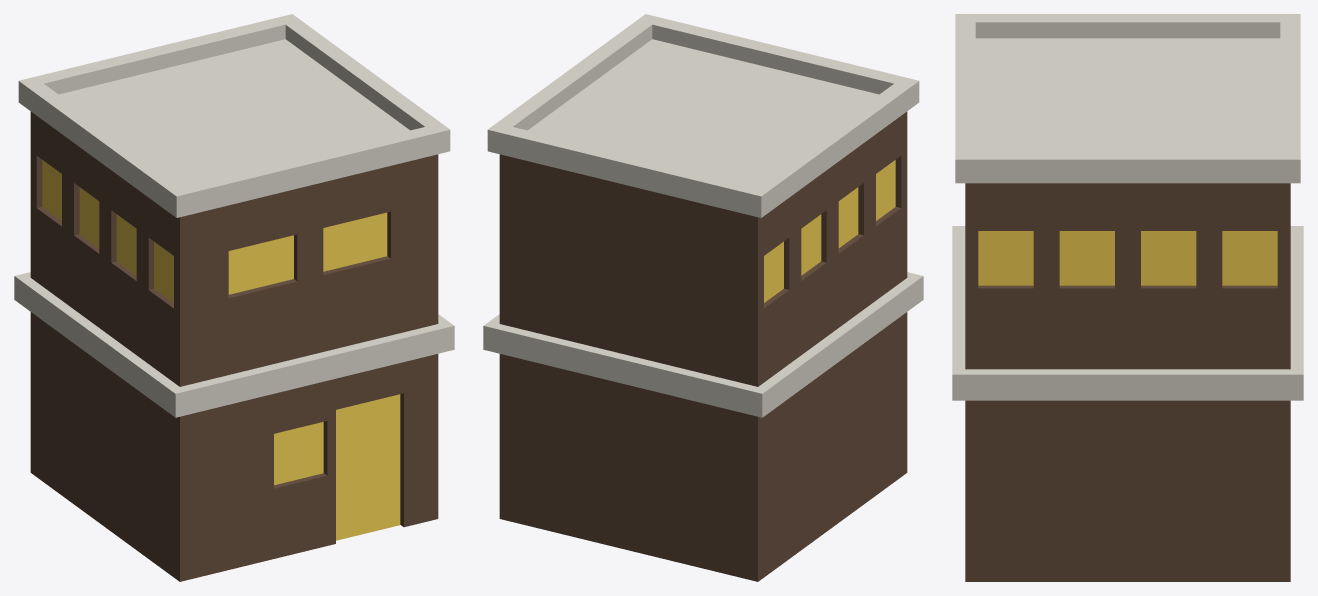
Rendered from 079 House.fbx.
3 views of the same model, side by side, from view 1: azimuth 30°, elevation 25°; view 2: azimuth 150°, elevation 25°; view 3: azimuth 270°, elevation 25° (orthographic). The views are drawn at different scales.
Parts seen in each view (by area): view 1: Lowpoly_Christmas_Pack_079:pCube1; view 2: Lowpoly_Christmas_Pack_079:pCube1; view 3: Lowpoly_Christmas_Pack_079:pCube1.
Boxes of the visible parts, box(x1,y1,x2,y2) form: Lowpoly_Christmas_Pack_079:pCube1: box(14, 14, 454, 581); Lowpoly_Christmas_Pack_079:pCube1: box(483, 14, 923, 581); Lowpoly_Christmas_Pack_079:pCube1: box(952, 14, 1303, 581).
Bounding box in the file's own units: 1.08 × 1.45 × 1.08.
